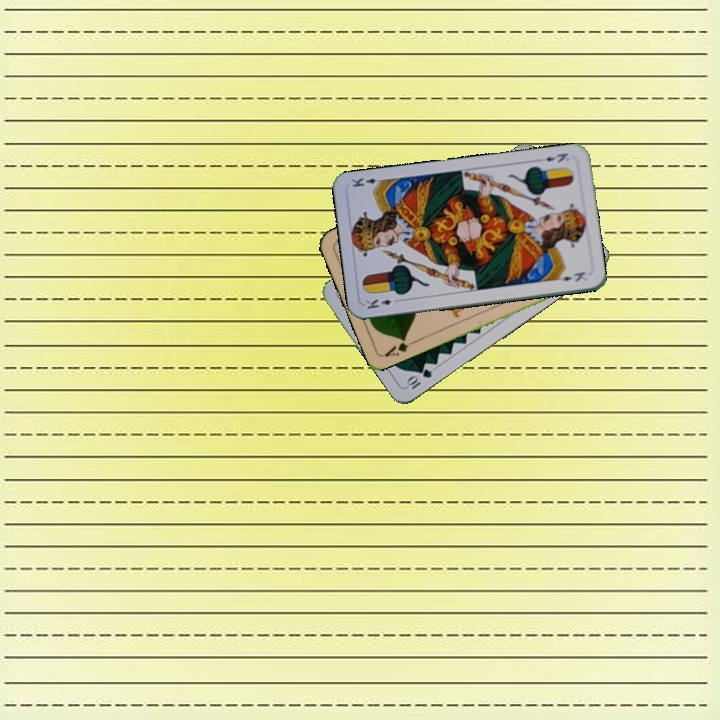EK: (362, 295, 403, 312), (542, 149, 570, 165)
G10: (402, 365, 435, 392)
GA: (381, 334, 419, 359)
